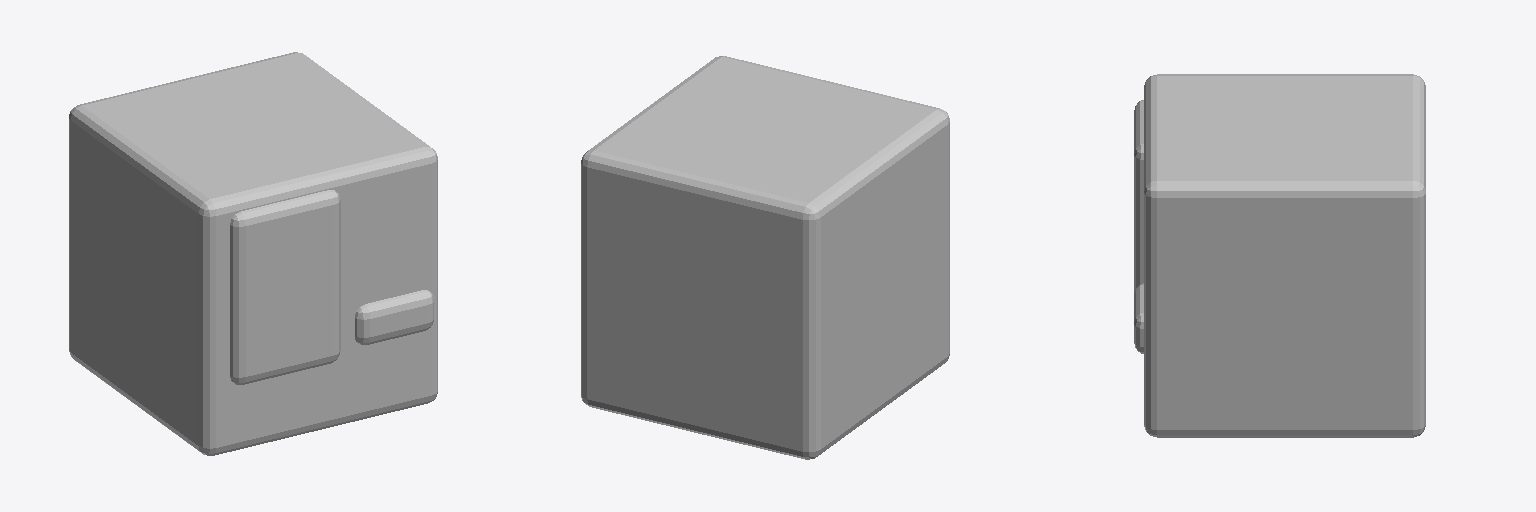
The model's file is Generator.obj.
3 views of the same model, side by side, from view 1: azimuth 30°, elevation 25°; view 2: azimuth 150°, elevation 25°; view 3: azimuth 270°, elevation 25° (orthographic).
Visible parts, largest first — view 1: Generator.001_Cube.039; view 2: Generator.001_Cube.039; view 3: Generator.001_Cube.039.
Part boxes in pixels (x1,y1,x2,y2): Generator.001_Cube.039: (69,52,437,455); Generator.001_Cube.039: (581,56,949,459); Generator.001_Cube.039: (1134,74,1425,437).
Bounding box in the file's own units: 0.9738 × 1 × 1.04.